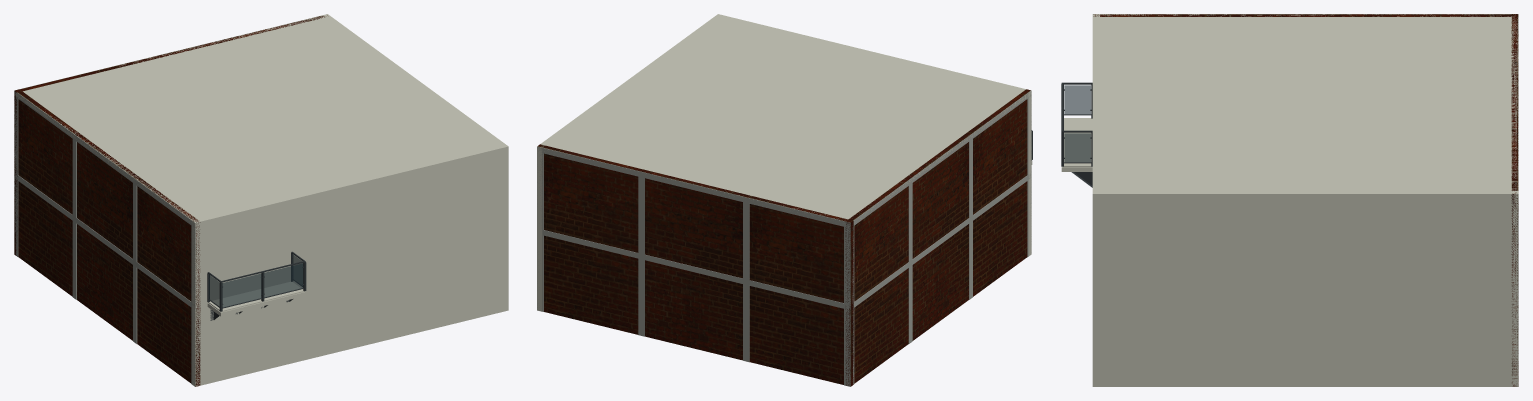
The model's file is building.glb.
3 renders of one model, left to right at view 1: azimuth 30°, elevation 25°; view 2: azimuth 150°, elevation 25°; view 3: azimuth 270°, elevation 25°, orthographic. The views are drawn at different scales.
Parts seen in each view (by area): view 1: roof/house:0/roof_slab#0001, house:0/edge0/z0/house:0/edge0/z0/wall_0_0, house:0/edge3/z0/house:0/edge3/z0/wall_0_0, house:0/edge2/z0/house:0/edge2/z0/wall_0_0, house:0/edge3/z0/house:0/edge3/z0/beam_0_0, house:0/edge3/z0/house:0/edge3/z0/beam_1_0, house:0/edge1/z0/house:0/edge1/z0/wall_0_0, balcony/sample/balcony_platform#0001, balcony/sample/balcony_glass#0003, balcony/sample/balcony_glass#0002, balcony/sample/balcony_fascia#0001; view 2: roof/house:0/roof_slab#0001, house:0/edge2/z0/house:0/edge2/z0/wall_0_0, house:0/edge3/z0/house:0/edge3/z0/wall_0_0, house:0/edge1/z0/house:0/edge1/z0/wall_0_0, house:0/edge2/z0/house:0/edge2/z0/beam_1_0, house:0/edge2/z0/house:0/edge2/z0/beam_0_0, house:0/edge0/z0/house:0/edge0/z0/wall_0_0, house:0/edge3/z0/house:0/edge3/z0/beam_0_0, house:0/edge3/z0/house:0/edge3/z0/beam_1_0, house:0/edge2/z0/house:0/edge2/z0/column_2_0, house:0/edge2/z0/house:0/edge2/z0/column_2_1, house:0/edge2/z0/house:0/edge2/z0/column_3_0 (+3 smaller); view 3: house:0/edge1/z0/house:0/edge1/z0/wall_0_0, roof/house:0/roof_slab#0001, house:0/edge0/z0/house:0/edge0/z0/wall_0_0, house:0/edge2/z0/house:0/edge2/z0/wall_0_0, balcony/sample/balcony_platform#0001, house:0/edge3/z0/house:0/edge3/z0/wall_0_0, balcony/sample/balcony_glass#0001, balcony/sample/balcony_glass#0004.
Boxes of the visible parts, bbox=[...] form: roof/house:0/roof_slab#0001: bbox=[15, 14, 506, 225]; house:0/edge0/z0/house:0/edge0/z0/wall_0_0: bbox=[192, 144, 508, 386]; house:0/edge3/z0/house:0/edge3/z0/wall_0_0: bbox=[17, 89, 200, 386]; house:0/edge2/z0/house:0/edge2/z0/wall_0_0: bbox=[14, 15, 327, 255]; house:0/edge3/z0/house:0/edge3/z0/beam_0_0: bbox=[14, 173, 195, 309]; house:0/edge3/z0/house:0/edge3/z0/beam_1_0: bbox=[14, 92, 195, 227]; house:0/edge1/z0/house:0/edge1/z0/wall_0_0: bbox=[323, 14, 508, 311]; balcony/sample/balcony_platform#0001: bbox=[208, 282, 304, 312]; balcony/sample/balcony_glass#0003: bbox=[264, 263, 303, 297]; balcony/sample/balcony_glass#0002: bbox=[222, 273, 261, 307]; balcony/sample/balcony_fascia#0001: bbox=[207, 291, 305, 316]; roof/house:0/roof_slab#0001: bbox=[540, 14, 1031, 223]; house:0/edge2/z0/house:0/edge2/z0/wall_0_0: bbox=[538, 144, 853, 386]; house:0/edge3/z0/house:0/edge3/z0/wall_0_0: bbox=[845, 89, 1030, 385]; house:0/edge1/z0/house:0/edge1/z0/wall_0_0: bbox=[537, 15, 722, 311]; house:0/edge2/z0/house:0/edge2/z0/beam_1_0: bbox=[538, 147, 850, 228]; house:0/edge2/z0/house:0/edge2/z0/beam_0_0: bbox=[542, 230, 850, 309]; house:0/edge0/z0/house:0/edge0/z0/wall_0_0: bbox=[717, 14, 1031, 256]; house:0/edge3/z0/house:0/edge3/z0/beam_0_0: bbox=[850, 172, 1031, 309]; house:0/edge3/z0/house:0/edge3/z0/beam_1_0: bbox=[850, 90, 1031, 227]; house:0/edge2/z0/house:0/edge2/z0/column_2_0: bbox=[638, 176, 644, 254]; house:0/edge2/z0/house:0/edge2/z0/column_2_1: bbox=[638, 258, 644, 336]; house:0/edge2/z0/house:0/edge2/z0/column_3_0: bbox=[743, 202, 749, 280]; house:0/edge1/z0/house:0/edge1/z0/wall_0_0: bbox=[1092, 191, 1518, 386]; roof/house:0/roof_slab#0001: bbox=[1092, 14, 1518, 198]; house:0/edge0/z0/house:0/edge0/z0/wall_0_0: bbox=[1092, 14, 1099, 386]; house:0/edge2/z0/house:0/edge2/z0/wall_0_0: bbox=[1511, 14, 1518, 386]; balcony/sample/balcony_platform#0001: bbox=[1063, 118, 1092, 167]; house:0/edge3/z0/house:0/edge3/z0/wall_0_0: bbox=[1093, 14, 1517, 16]; balcony/sample/balcony_glass#0001: bbox=[1064, 85, 1090, 114]; balcony/sample/balcony_glass#0004: bbox=[1064, 133, 1090, 162].
Bounding box in the file's own units: 12 × 6 × 12.89.
Materials: 5 (1 with a texture image).
